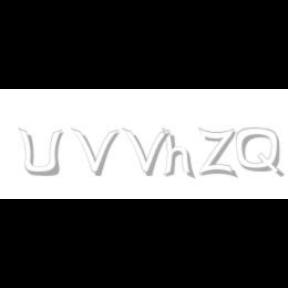Q: (236, 128, 282, 178)
U: (18, 128, 62, 178)
V: (71, 128, 119, 176), (122, 128, 170, 176)
Z: (198, 128, 235, 178)
h: (162, 128, 196, 180)
